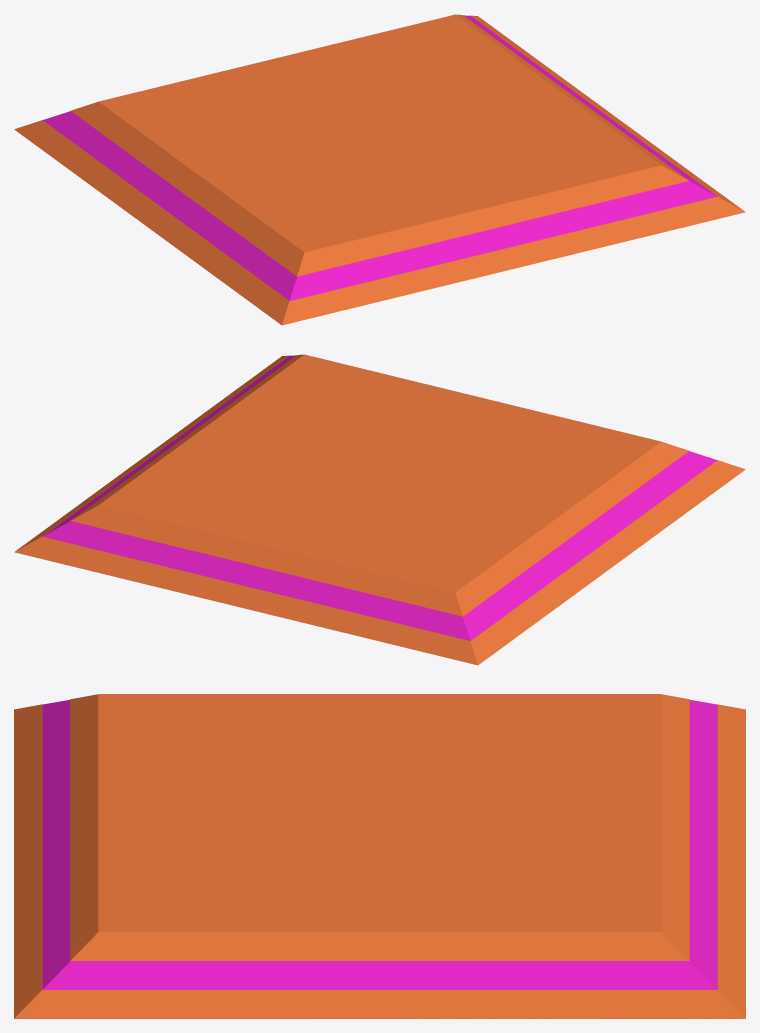
Rendered from enemySpawnPad.fbx.
3 views of the same model, one above another, from view 1: azimuth 30°, elevation 25°; view 2: azimuth 150°, elevation 25°; view 3: azimuth 270°, elevation 25° (orthographic). The views are drawn at different scales.
Parts seen in each view (by area): view 1: EnemySpawnPad_MESH, EnemySpawnPad_COL; view 2: EnemySpawnPad_MESH, EnemySpawnPad_COL; view 3: EnemySpawnPad_MESH, EnemySpawnPad_COL.
Boxes of the visible parts, bbox=[...] form: EnemySpawnPad_MESH: bbox=[14, 14, 745, 325]; EnemySpawnPad_COL: bbox=[42, 15, 716, 300]; EnemySpawnPad_MESH: bbox=[14, 354, 745, 665]; EnemySpawnPad_COL: bbox=[43, 355, 717, 640]; EnemySpawnPad_MESH: bbox=[14, 694, 745, 1018]; EnemySpawnPad_COL: bbox=[14, 700, 735, 1018].
Size of the model in its own units: 260 by 260 by 20.
